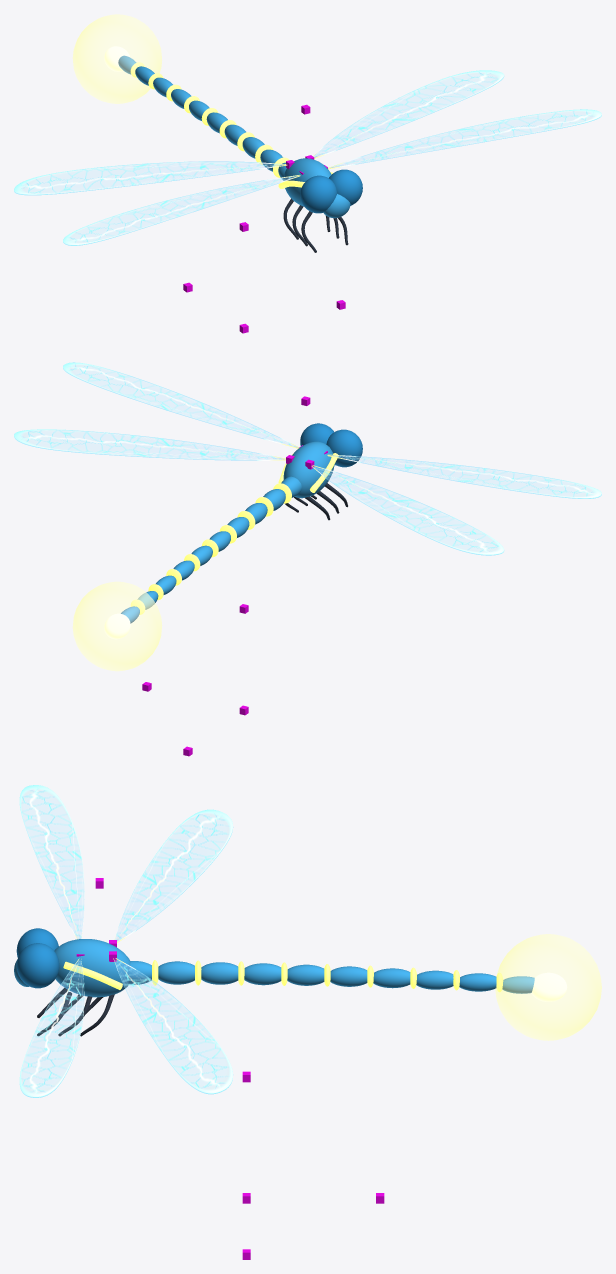
Rendered from 06_libellula_fulmine.glb.
3 views of the same model, one above another, from view 1: azimuth 30°, elevation 25°; view 2: azimuth 150°, elevation 25°; view 3: azimuth 270°, elevation 25° (orthographic). The views are drawn at different scales.
Parts seen in each view (by area): view 1: Libellula__Aura_Bulbo, Libellula__Ala_Circuito__AlaPost_L, Libellula__Ala_Circuito__AlaPost_R, Libellula__Ala_Circuito__AlaAnt_R, Libellula__Azzurro, Libellula__Ala_Circuito__AlaAnt_L, Libellula__Occhi, Libellula__Oro, Libellula__Zampe; view 2: Libellula__Aura_Bulbo, Libellula__Ala_Circuito__AlaPost_R, Libellula__Ala_Circuito__AlaPost_L, Libellula__Azzurro, Libellula__Ala_Circuito__AlaAnt_R, Libellula__Ala_Circuito__AlaAnt_L, Libellula__Oro, Libellula__Occhi, Libellula__Bulbo; view 3: Libellula__Azzurro, Libellula__Aura_Bulbo, Libellula__Ala_Circuito__AlaPost_R, Libellula__Ala_Circuito__AlaPost_L, Libellula__Ala_Circuito__AlaAnt_L, Libellula__Ala_Circuito__AlaAnt_R, Libellula__Occhi, Libellula__Oro, Libellula__Zampe, Libellula__Bulbo.
Boxes of the visible parts, x1,y1,x2,y2 form: Libellula__Aura_Bulbo: (72,14,161,103); Libellula__Ala_Circuito__AlaPost_L: (14,161,287,195); Libellula__Ala_Circuito__AlaPost_R: (313,70,504,158); Libellula__Ala_Circuito__AlaAnt_R: (328,109,601,169); Libellula__Azzurro: (118,55,350,218); Libellula__Ala_Circuito__AlaAnt_L: (63,175,300,245); Libellula__Occhi: (300,169,362,213); Libellula__Oro: (130,62,333,188); Libellula__Zampe: (283,198,348,252); Libellula__Aura_Bulbo: (72,581,161,671); Libellula__Ala_Circuito__AlaPost_R: (14,429,285,460); Libellula__Ala_Circuito__AlaPost_L: (311,465,504,555); Libellula__Azzurro: (121,441,335,623); Libellula__Ala_Circuito__AlaAnt_R: (63,362,299,448); Libellula__Ala_Circuito__AlaAnt_L: (327,454,601,498); Libellula__Oro: (130,453,338,614); Libellula__Occhi: (300,423,362,467); Libellula__Bulbo: (104,613,130,639); Libellula__Azzurro: (14,939,534,997); Libellula__Aura_Bulbo: (495,934,601,1040); Libellula__Ala_Circuito__AlaPost_R: (113,958,233,1094); Libellula__Ala_Circuito__AlaPost_L: (114,809,233,942); Libellula__Ala_Circuito__AlaAnt_L: (19,785,84,939); Libellula__Ala_Circuito__AlaAnt_R: (19,958,84,1097); Libellula__Occhi: (16,928,59,988); Libellula__Oro: (63,960,503,992); Libellula__Zampe: (37,988,114,1036); Libellula__Bulbo: (531,972,567,1001).
Size of the model in its own units: 8.29 by 3.99 by 6.6.
8 materials, 1 textured.
